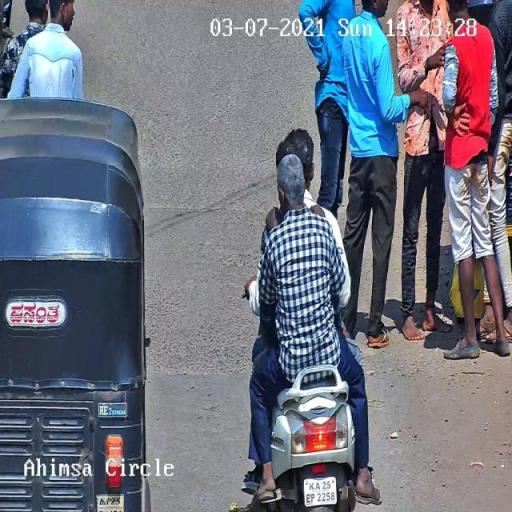tripple riding: (242, 120, 352, 354)
